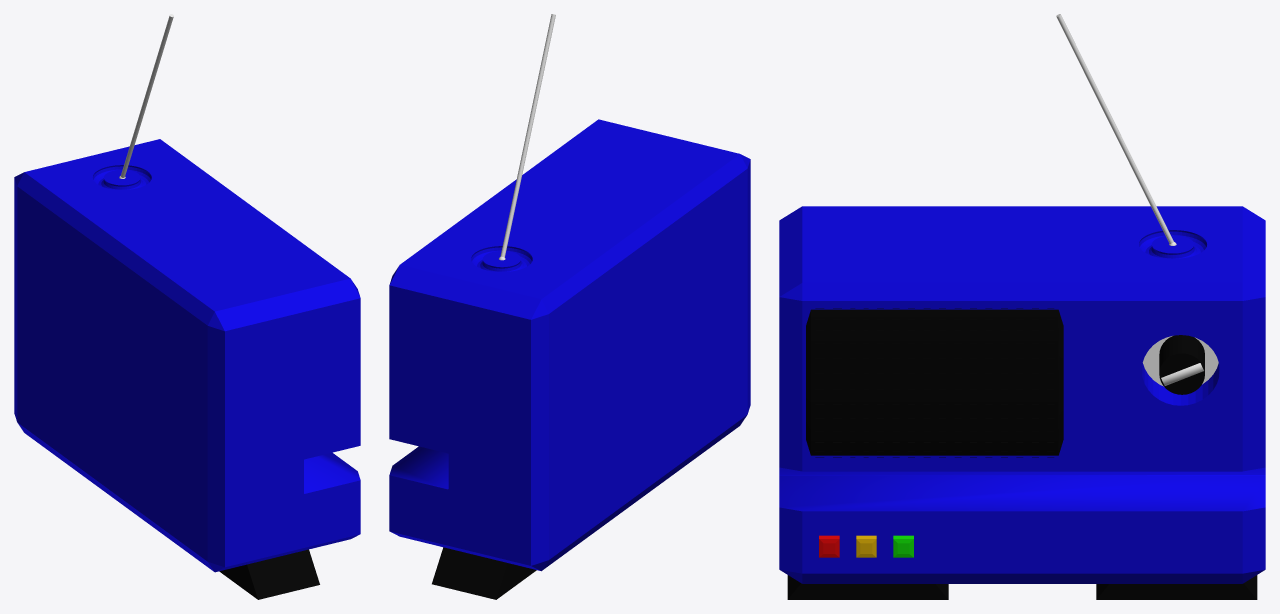
Rendered from Radio.fbx.
3 views of the same model, side by side, from view 1: azimuth 30°, elevation 25°; view 2: azimuth 150°, elevation 25°; view 3: azimuth 270°, elevation 25° (orthographic). The views are drawn at different scales.
Parts seen in each view (by area): view 1: Cube, Cube.002, Cylinder.001; view 2: Cube, Cube.003, Cylinder.001; view 3: Cube, Cylinder.002, Cube.002, Cube.003, Cylinder, Cylinder.001.
Boxes of the visible parts, <box> form: Cube: <box>14,139,360,572</box>; Cube.002: <box>219,549,319,599</box>; Cylinder.001: <box>121,14,173,177</box>; Cube: <box>389,119,750,571</box>; Cube.003: <box>432,547,536,599</box>; Cylinder.001: <box>500,14,555,257</box>; Cube: <box>779,206,1265,583</box>; Cylinder.002: <box>806,308,1063,457</box>; Cube.002: <box>787,575,948,599</box>; Cube.003: <box>1096,575,1257,599</box>; Cylinder: <box>1159,335,1204,394</box>; Cylinder.001: <box>1056,14,1173,243</box>.
Bounding box in the file's own units: 127 × 377 × 293.
